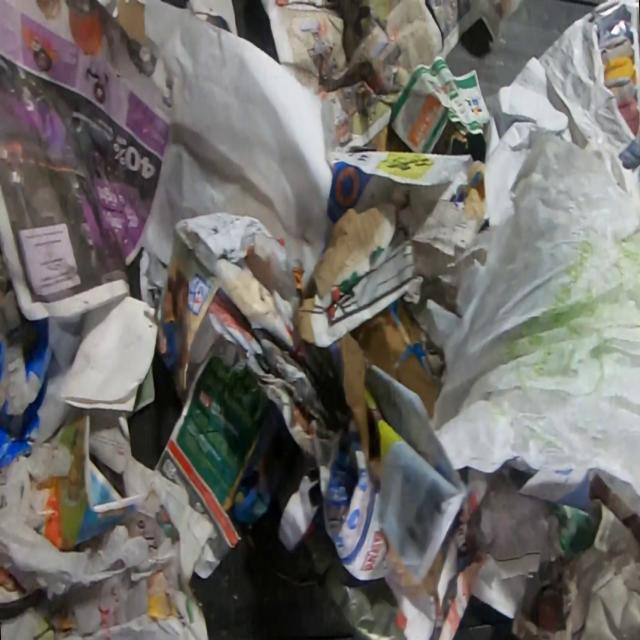cardboard: (294, 185, 422, 349), (336, 297, 440, 467), (0, 316, 52, 470)
soft_plastic: (424, 129, 639, 500), (0, 441, 148, 600)
